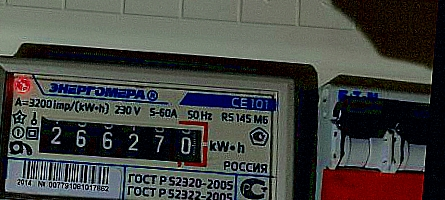0: (178, 134, 192, 155)
2: (47, 124, 64, 145), (125, 130, 140, 151)
6: (73, 126, 88, 148), (100, 129, 114, 150)
7: (151, 133, 164, 152)
screen: (28, 105, 216, 172)
